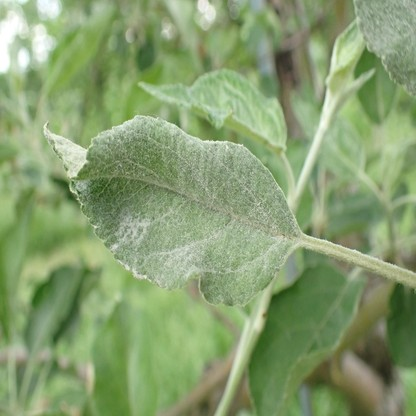powdery_mildew: (43, 115, 296, 306), (353, 1, 416, 94)
